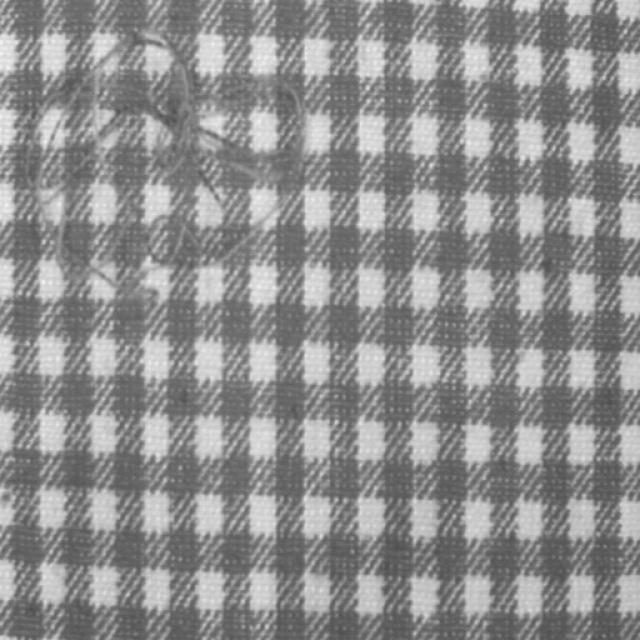Foreign-Body-Defect: (45, 29, 302, 208), (15, 166, 199, 290), (278, 194, 302, 244)
